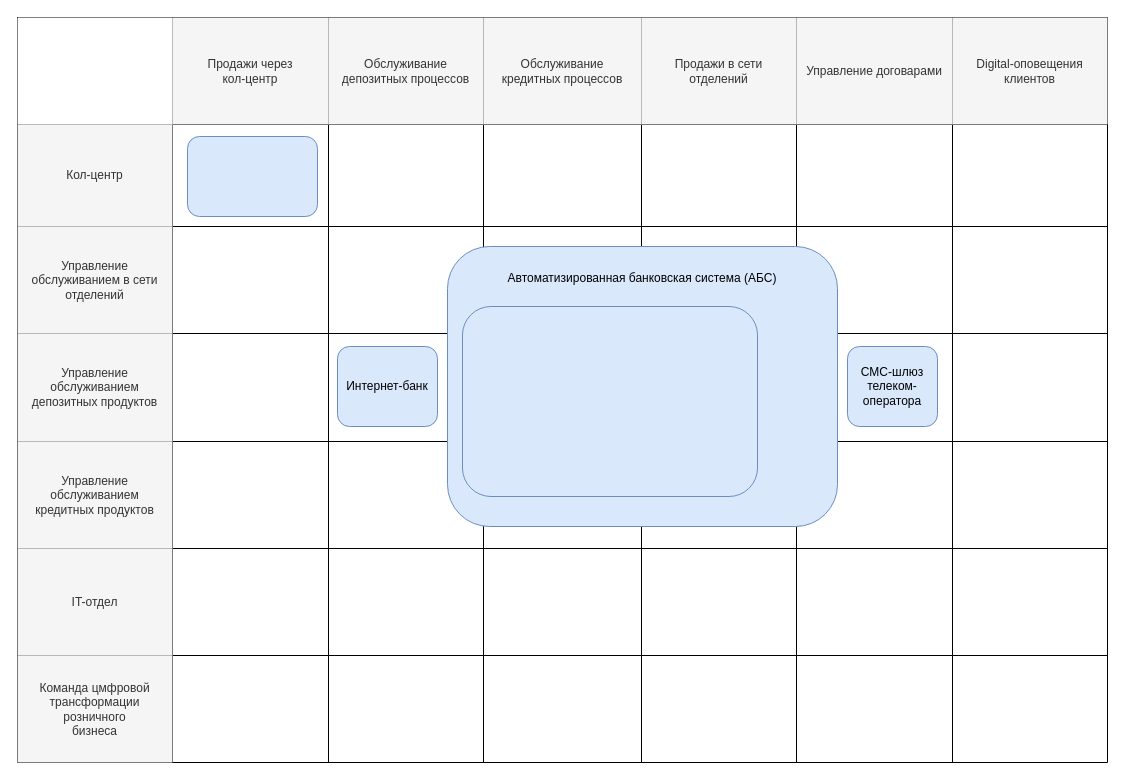
Some shapes in this 1125 by 780 pixel diagram are drawn without their labels. The shapes that lost their labels are listed below. From the top down, each one's centre as x and y in pixels, then its label:
At point 252,176: "Система кол-центра".
At point 610,401: "Почта".
